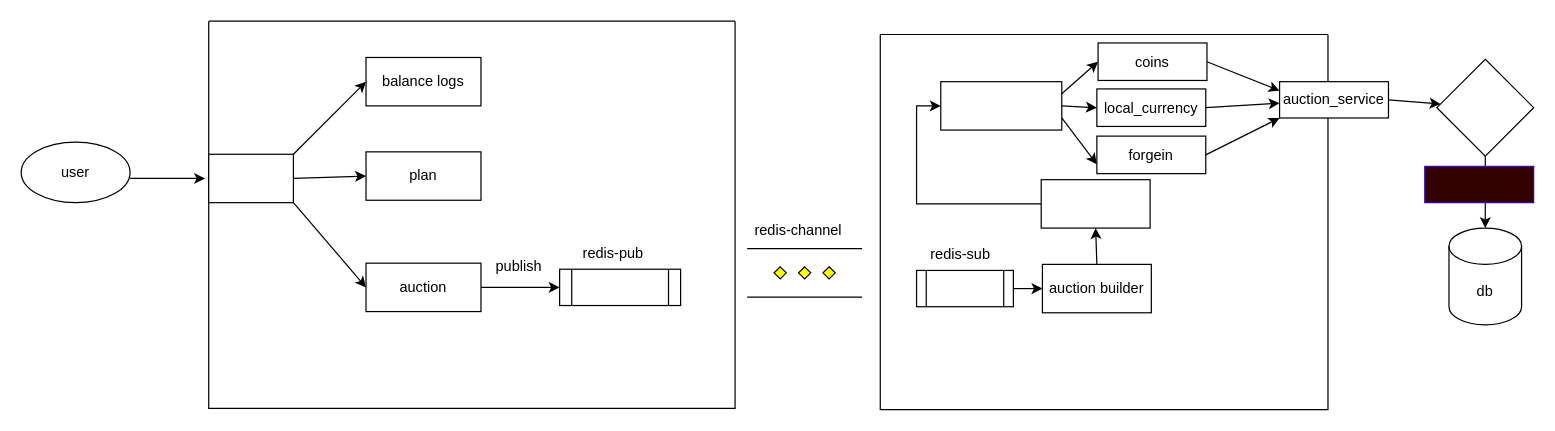
This 1555x431 diagram has some shape labels left out. Here are the shapes that lost their labels. From the top down, the centre of each, then its label:
At (1001,105): "balance factory".
At (1485,107): "cache".
At (250,178): "auth".
At (1479,184): "write through".
At (1095,203): "auction factory".
